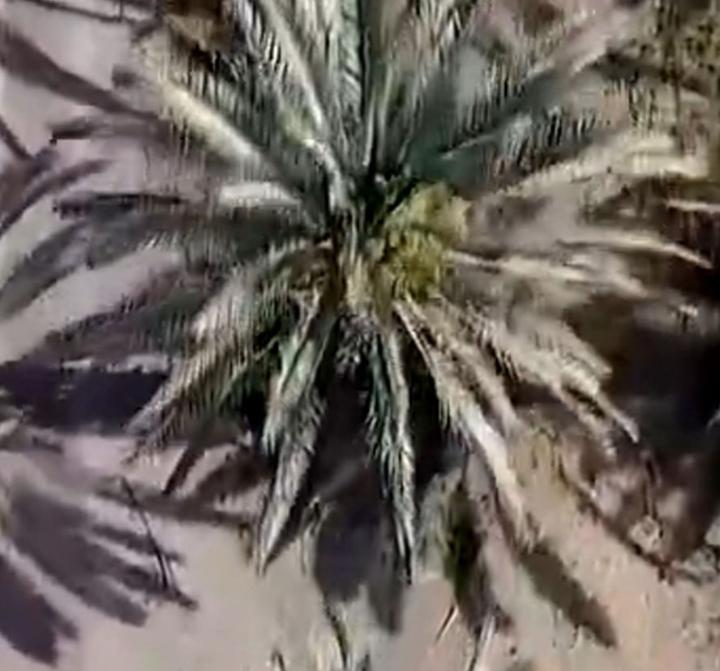Date-Palm-Crown: (242, 64, 500, 376)
